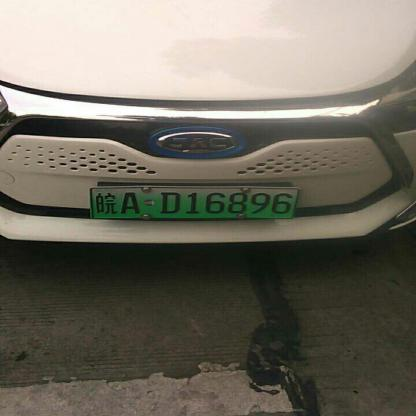lp: (91, 188, 301, 218)
